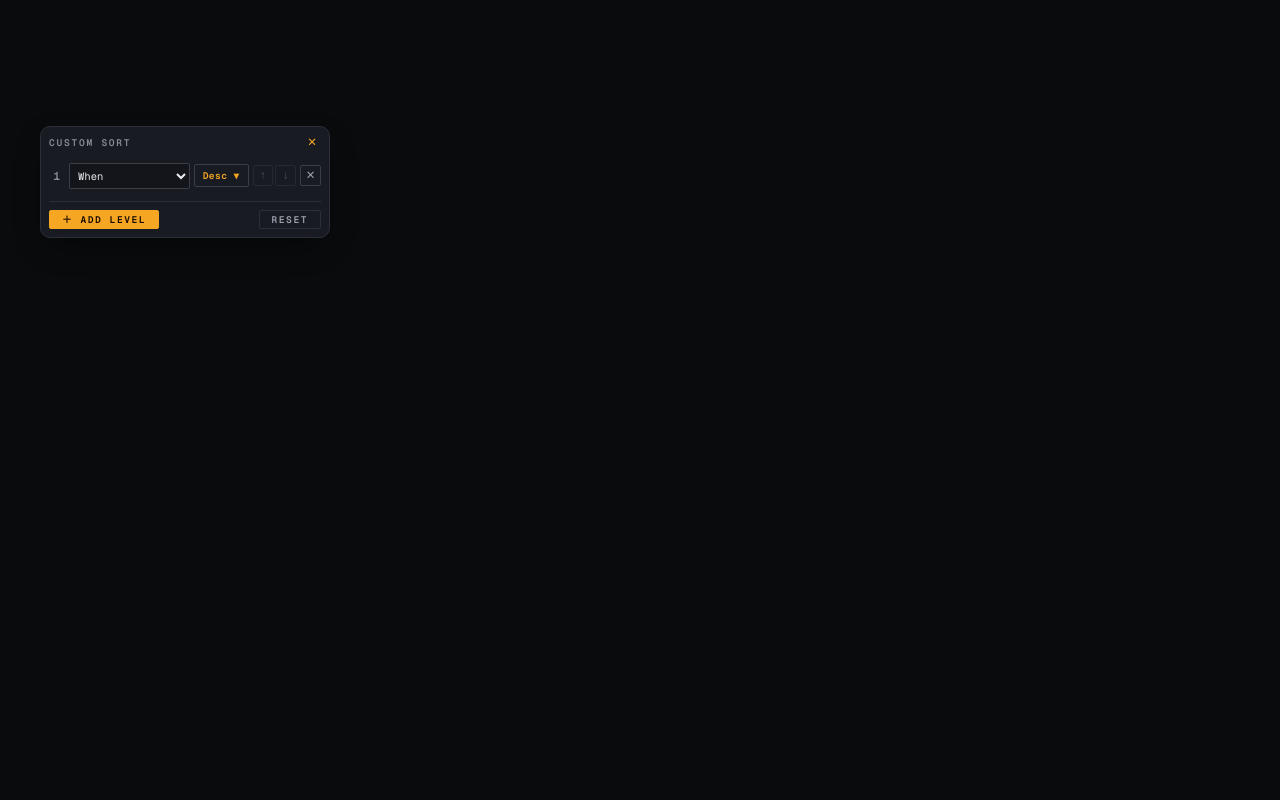
Scenario: MatchesTableSortPopover › removing the last level shows the empty hint
Click the button named "Remove level 1" at x=311, y=176, box x1=300 y1=165 x2=321 y2=186
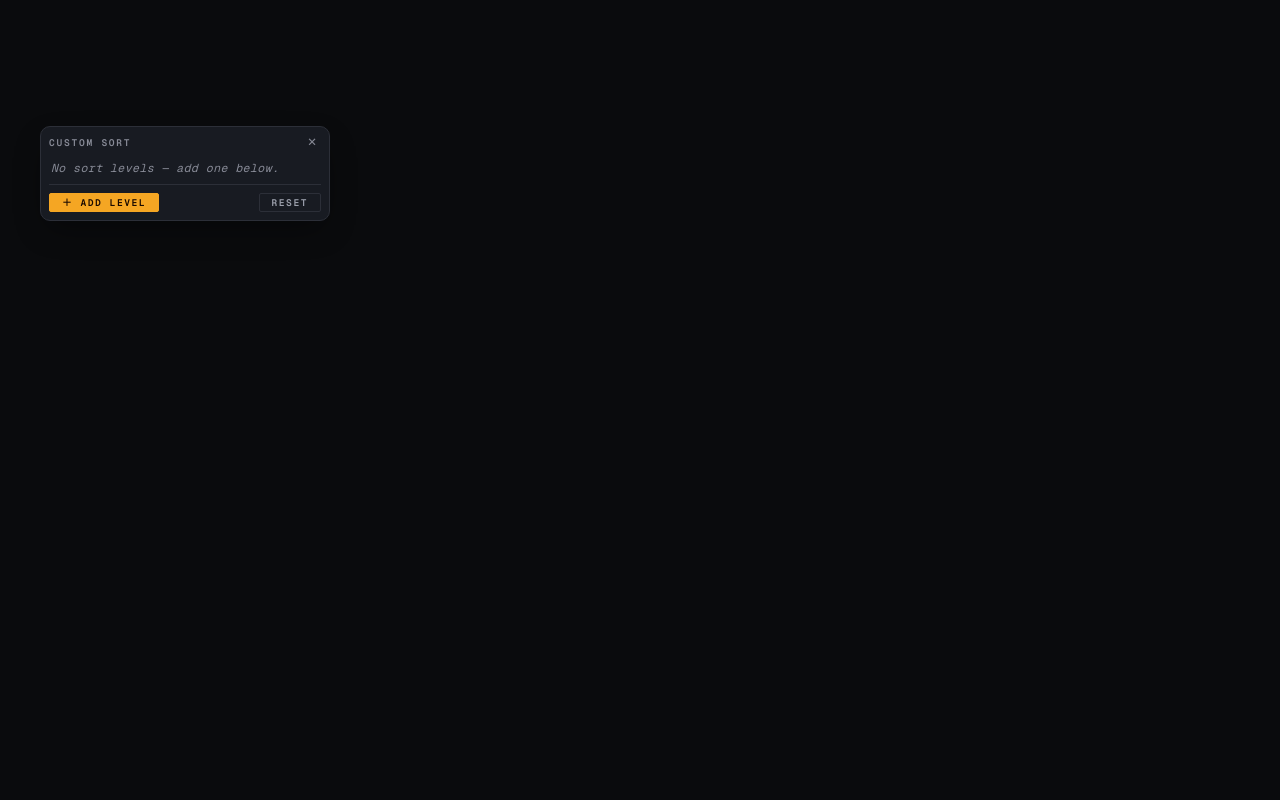
Check: no dropdowns are shown
Check: the text "No sort levels — add one below." is shown, box x1=51 y1=160 x2=280 y2=174
